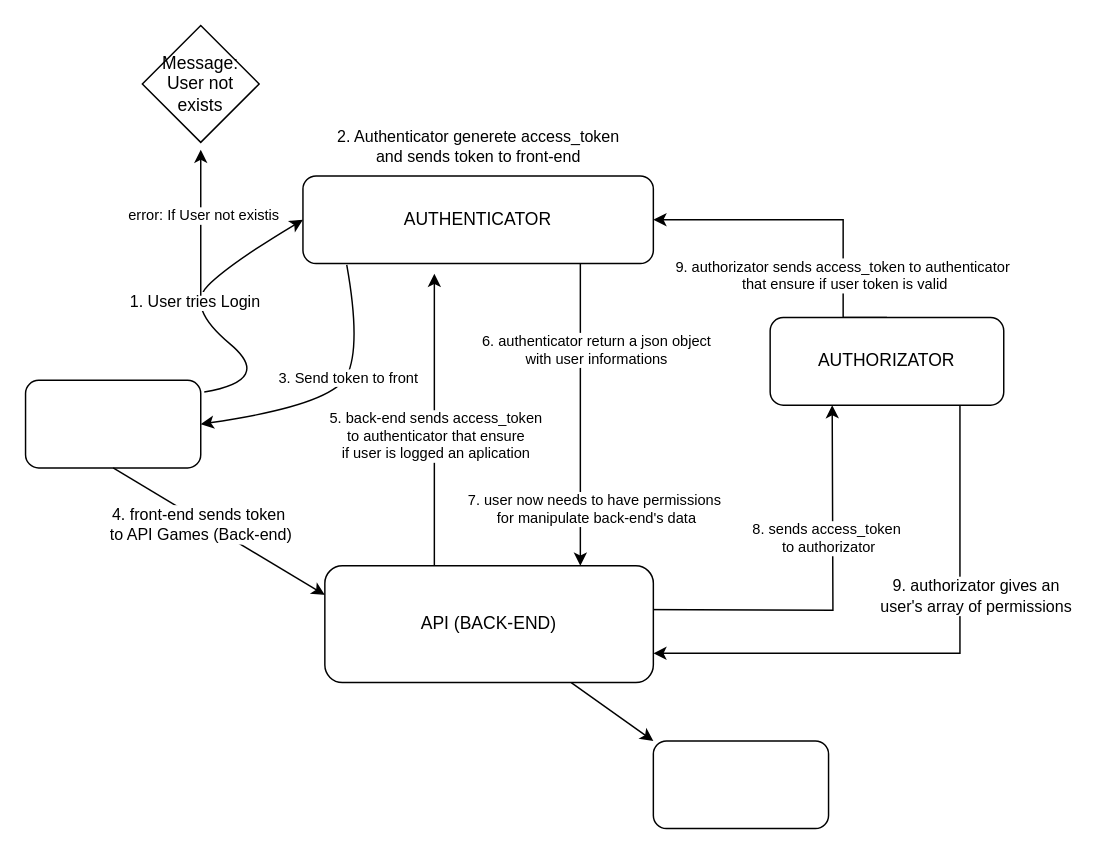
The diagram is 1096 pixels wide and 854 high, and some of its shapes have lost their labels. The shapes that lost their labels are listed below. From the top down, each one's centre as x and y in pixels, then its label:
the point at 112,423: FRONT-END
the point at 740,784: BACK-END DATABASE
